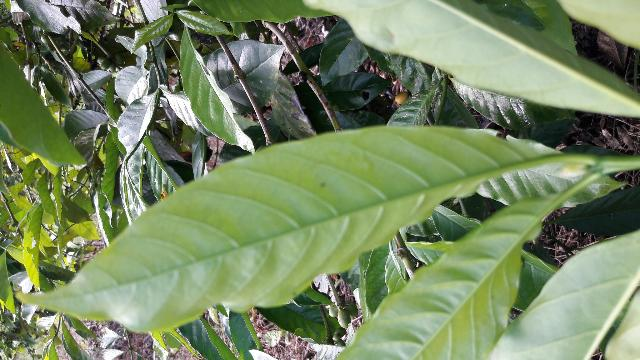healthy: (38, 129, 563, 326)
